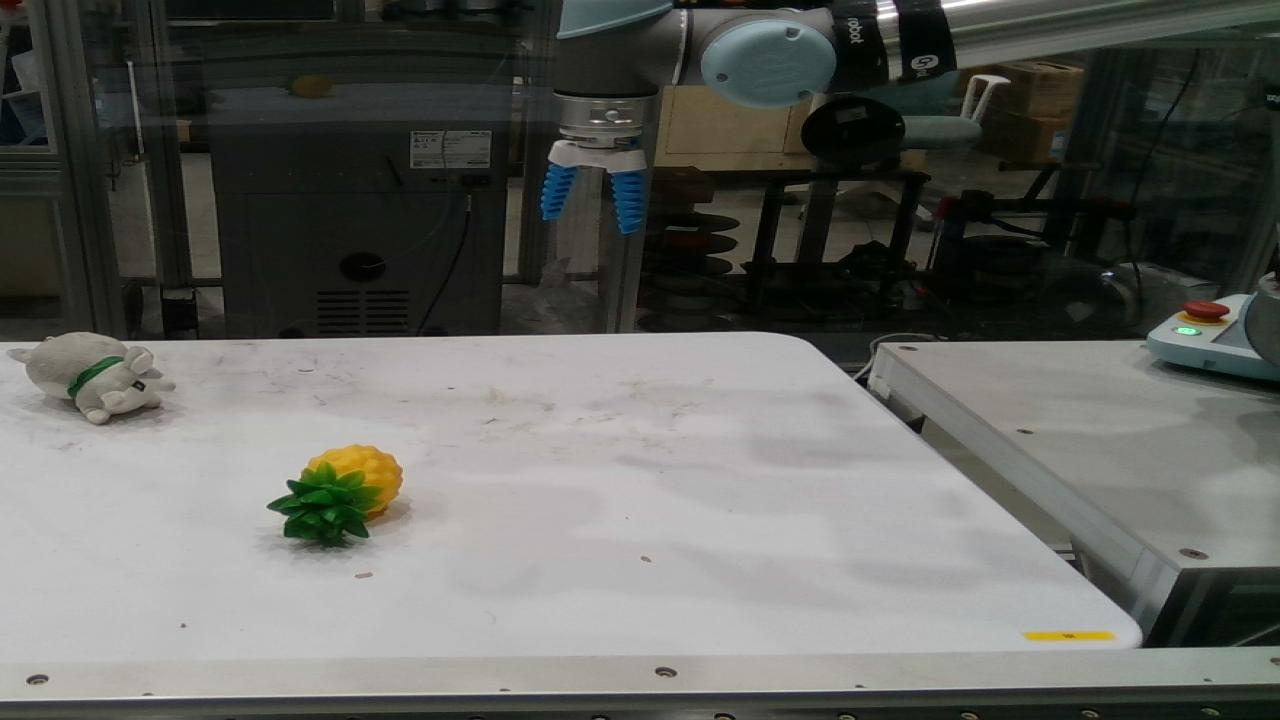UR5: (548, 0, 1279, 369)
gripper_left: (540, 162, 579, 221)
gripper_right: (611, 173, 644, 232)
target: (7, 332, 177, 425), (265, 444, 405, 547)
